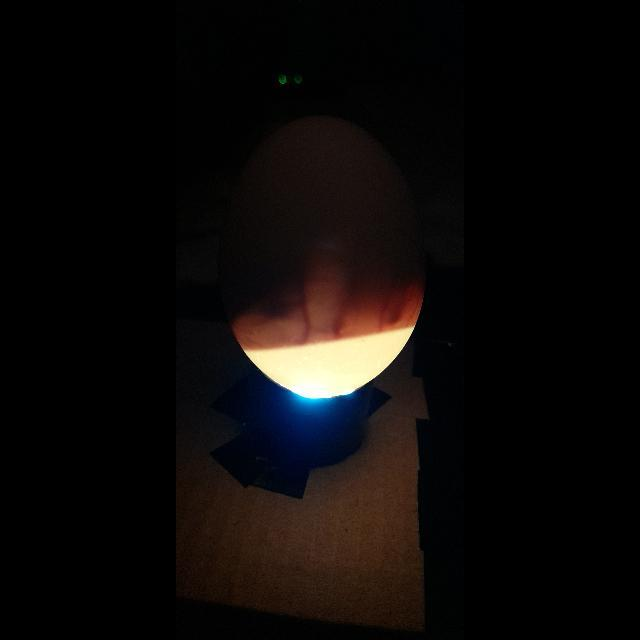Fertile: (220, 115, 424, 401)
